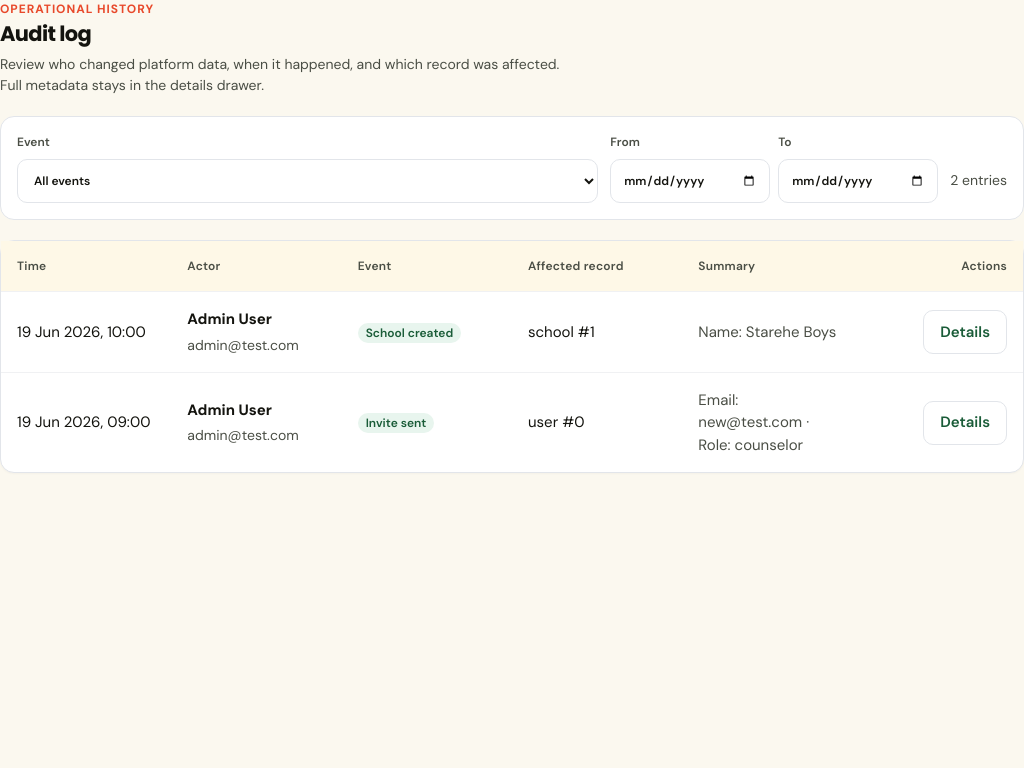
Test: SystemAdminAuditLogPage › keeps audit rows concise and opens structured metadata in a details drawer
Expected: the table named "Audit log entries" is shown, 1,241 -> 1023,472
Expected: the heading "Audit log" is shown, 0,19 -> 91,48
Click the button with aria-label "View details for School created" at (965, 332), box 923,310 -> 1007,354
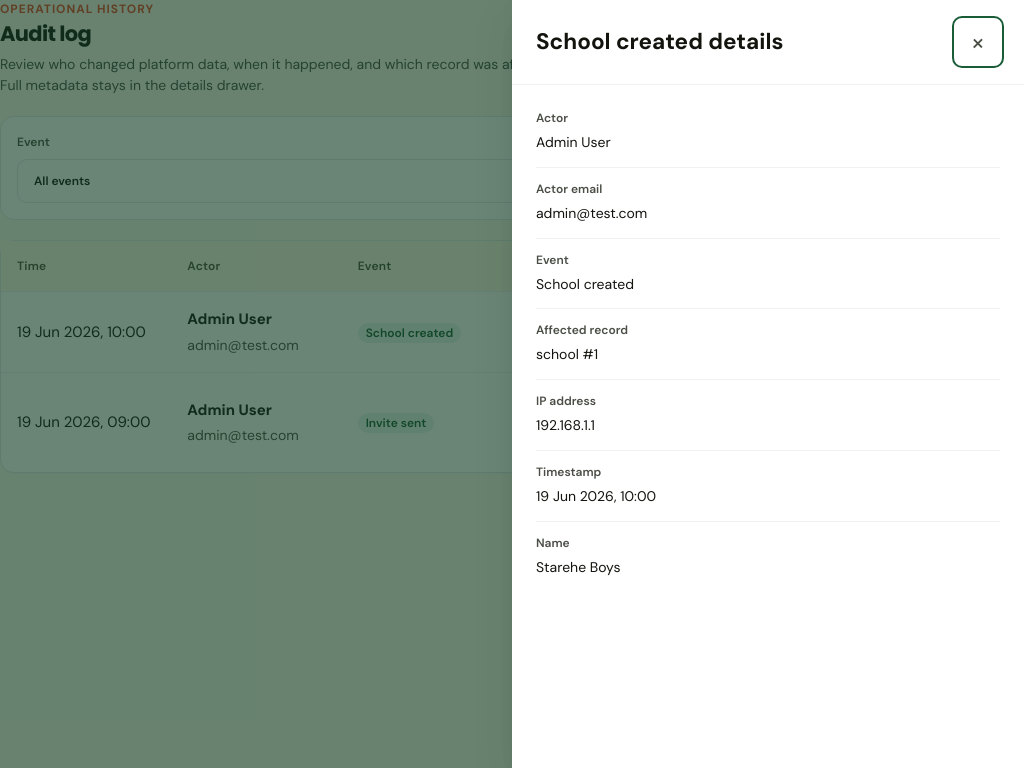
Expected: the dialog "School created details" shows "Starehe Boys", 536,558 -> 620,576
Expected: the dialog "School created details" shows "192.168.1.1", 536,416 -> 595,434
